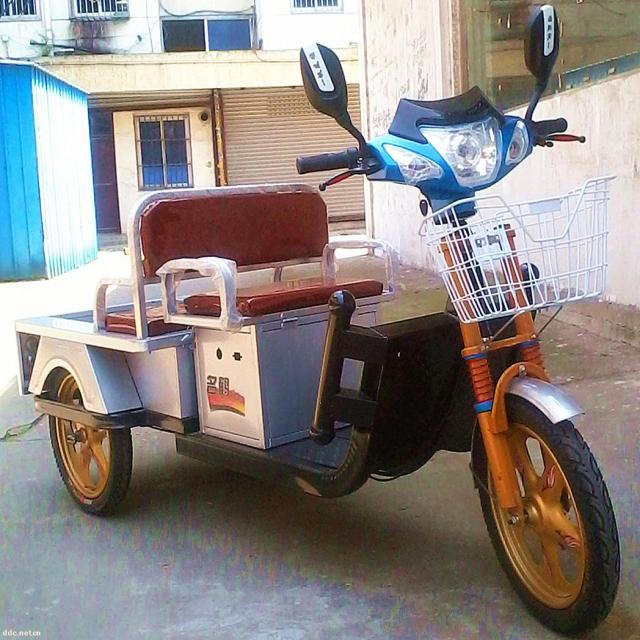tricycle: (16, 6, 623, 635)
